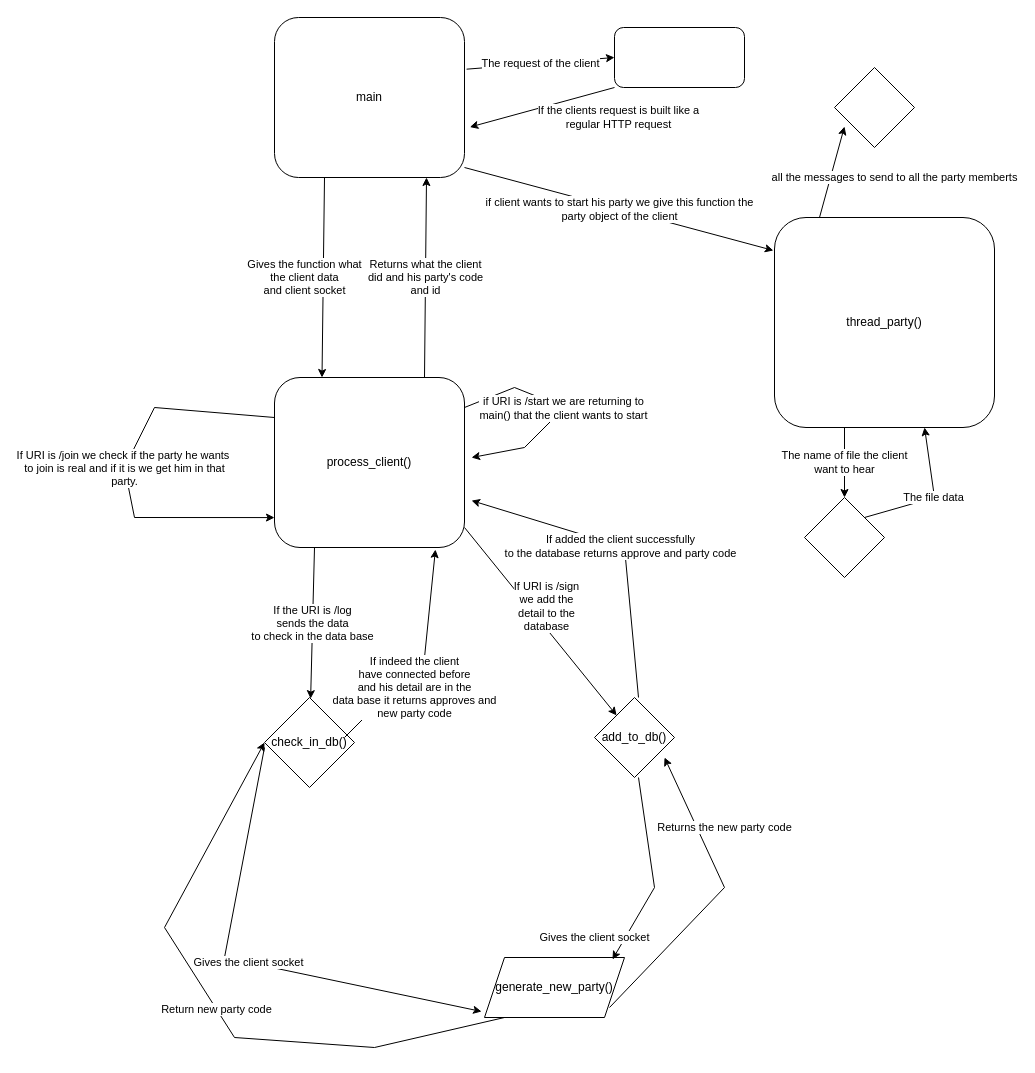
Image size: 1035x1073. Some labels were removed from this diagram. Here are the shapes that lost their labels. From the top down, the box of each, then its label:
(614, 26, 744, 88): validate_http_request()
(834, 66, 914, 148): sender()
(804, 496, 884, 578): get_song_data()
